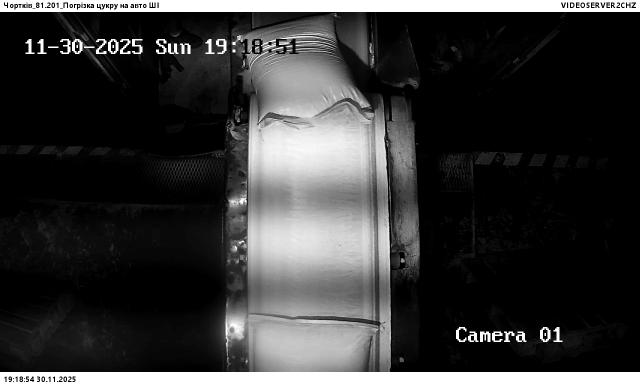bag: (239, 16, 374, 133), (248, 314, 381, 371)
